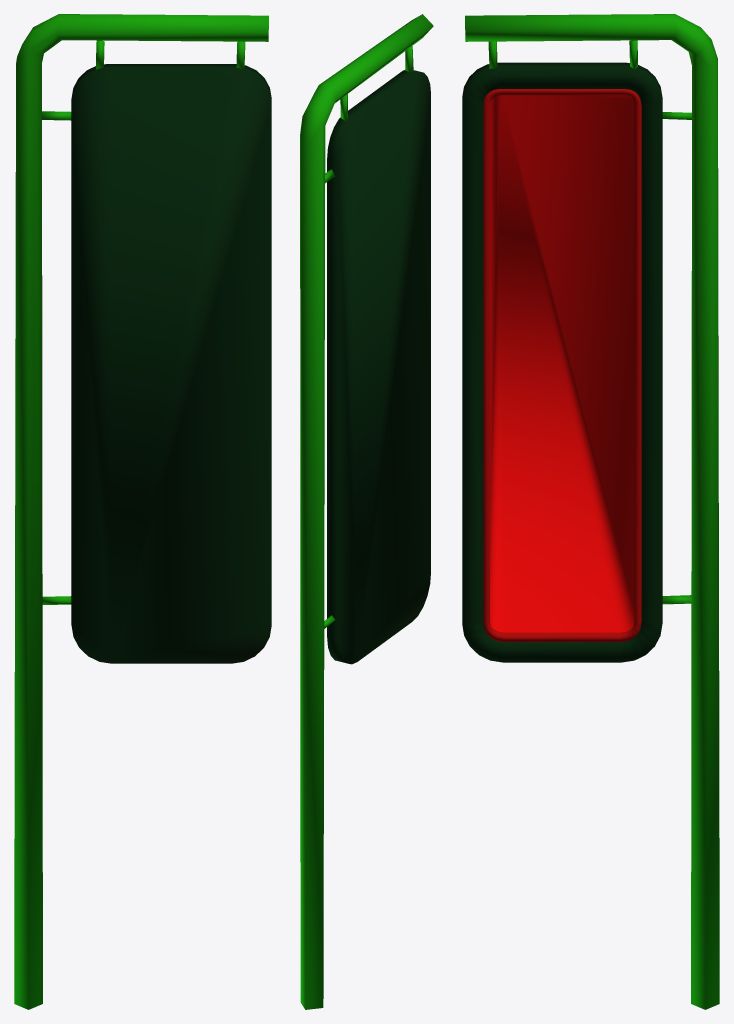
File: Bendera.fbx
3 views of the same model, side by side, from view 1: azimuth 90°, elevation 25°; view 2: azimuth 150°, elevation 25°; view 3: azimuth 270°, elevation 25° (orthographic). The views are drawn at different scales.
Parts seen in each view (by area): view 1: Pondasi.003; view 2: Pondasi.003; view 3: Pondasi.003.
Part boxes in pixels (x1,y1,x2,y2): Pondasi.003: [14, 14, 271, 1009]; Pondasi.003: [300, 14, 433, 1009]; Pondasi.003: [462, 14, 719, 1009].
Bounding box in the file's own units: 17.35 × 156 × 660.
